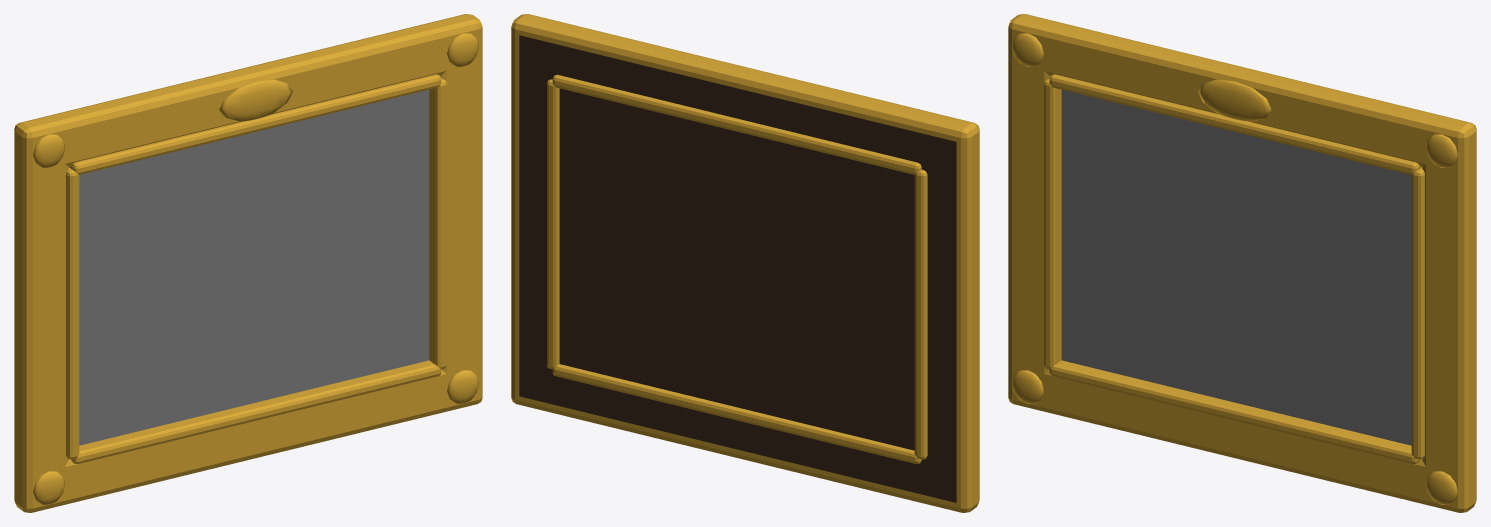
The model's file is painting.glb.
The picture shows the model from 3 angles, left to right: view 1: azimuth 30°, elevation 25°; view 2: azimuth 150°, elevation 25°; view 3: azimuth 330°, elevation 25°; orthographic projection.
Visible parts, largest first — view 1: painting; view 2: painting; view 3: painting.
Boxes of the visible parts, x1,y1,x2,y2 form: painting: (14,14,482,512); painting: (511,14,979,512); painting: (1008,14,1476,512).
Bounding box in the file's own units: 1 × 0.8 × 0.08.
